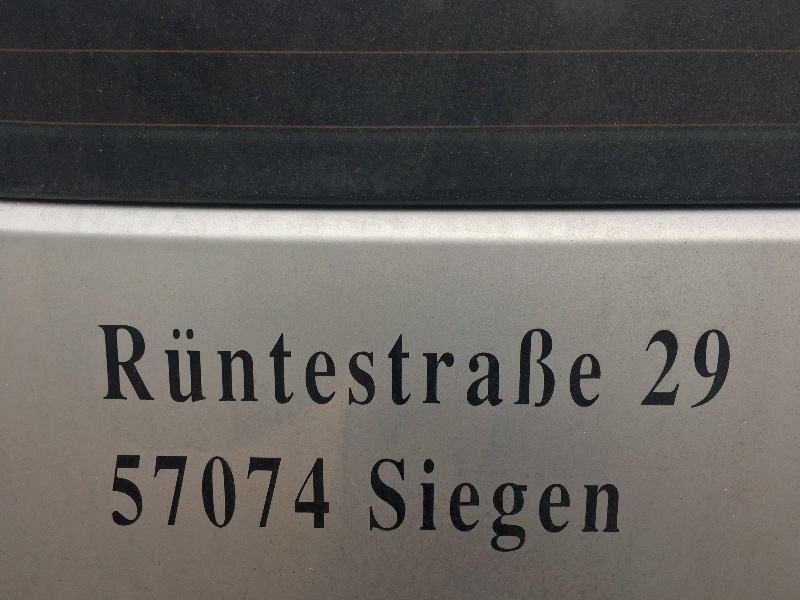text: (385, 455, 400, 564), (401, 455, 416, 564), (417, 455, 432, 564), (433, 455, 448, 564), (449, 455, 464, 564), (465, 455, 480, 564), (481, 455, 496, 564), (497, 455, 512, 564), (513, 455, 528, 564), (529, 455, 544, 564), (545, 455, 560, 564), (561, 455, 576, 564), (577, 455, 592, 564), (593, 455, 608, 564), (371, 455, 384, 564), (609, 455, 622, 564), (113, 323, 128, 413), (129, 323, 144, 413), (145, 323, 160, 413), (161, 323, 176, 413), (177, 323, 192, 413), (193, 323, 208, 413), (209, 323, 224, 413), (225, 323, 240, 413), (241, 323, 256, 413), (257, 323, 272, 413), (273, 323, 288, 413), (289, 323, 304, 413), (305, 323, 320, 413), (321, 323, 336, 413), (337, 323, 352, 413), (353, 323, 368, 413), (369, 323, 384, 413), (385, 323, 400, 413), (401, 323, 416, 413), (417, 323, 432, 413), (433, 323, 448, 413), (449, 323, 464, 413), (465, 323, 480, 413), (481, 323, 496, 413), (497, 323, 512, 413), (513, 323, 528, 413), (529, 323, 544, 413), (545, 323, 560, 413), (561, 323, 576, 413), (577, 323, 592, 413), (593, 323, 608, 413), (657, 326, 672, 411), (673, 326, 688, 411), (689, 326, 704, 411), (705, 326, 720, 411), (98, 323, 112, 413), (129, 454, 144, 536), (145, 454, 160, 536), (161, 454, 176, 536), (177, 454, 192, 536), (193, 454, 208, 536), (209, 454, 224, 536), (225, 454, 240, 536), (241, 454, 256, 536), (257, 454, 272, 536), (273, 454, 288, 536), (289, 454, 304, 536), (305, 454, 320, 536), (721, 326, 733, 411), (116, 454, 128, 536), (321, 454, 332, 536), (648, 326, 656, 411)
